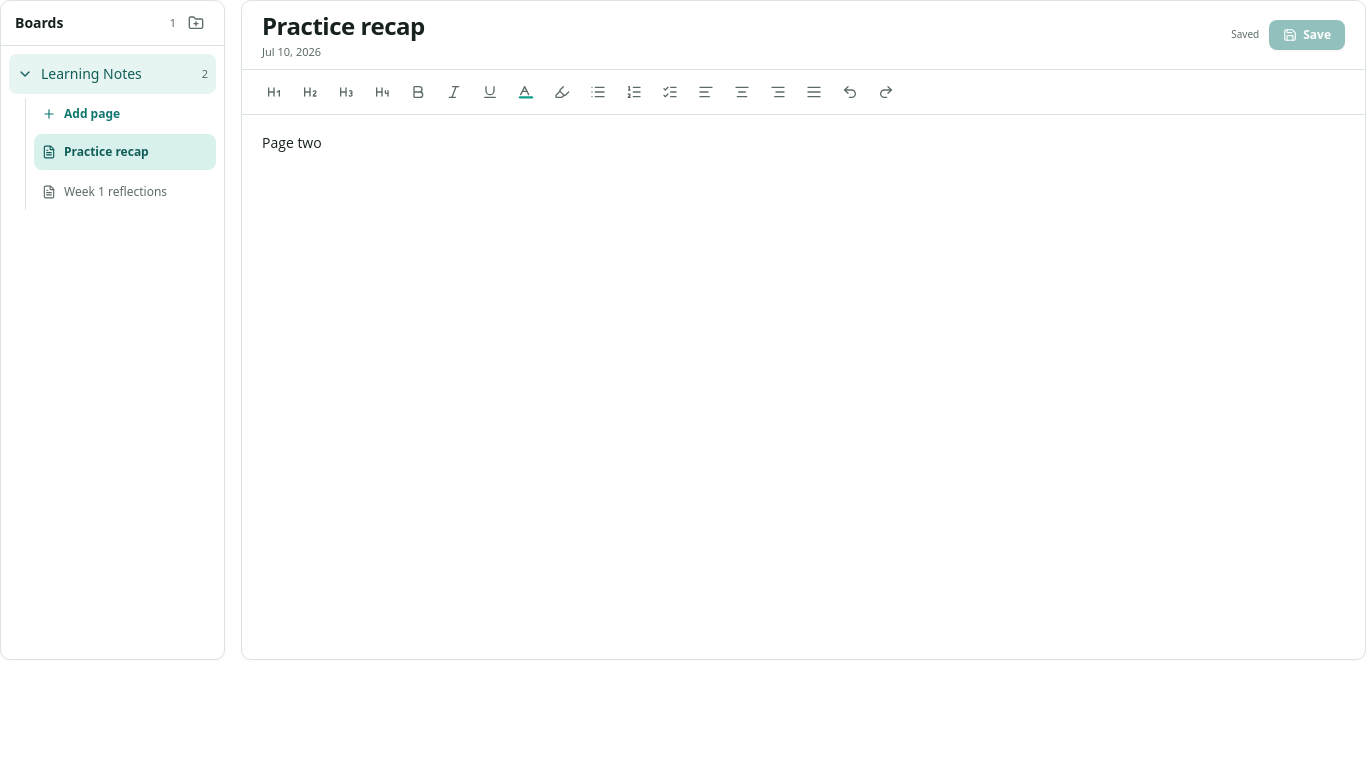
Test case: NotesPage › saves before switching pages and keeps the draft when save fails
Check: the field showing "Practice recap" is shown, box [262,9,1231,42]
Click the button "Week 1 reflections" at x=125, y=192, box [34,174,216,210]
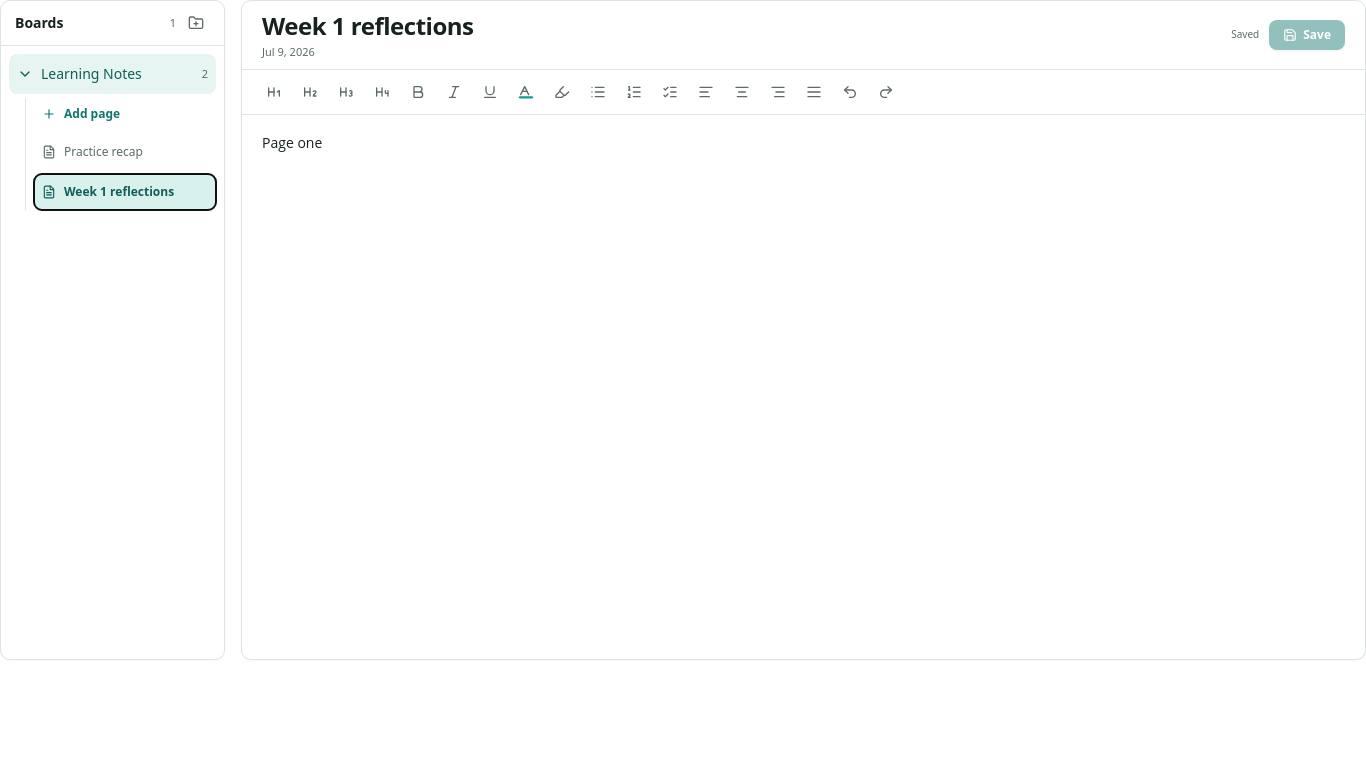
Clear the field named "Note title" at x=747, y=26, box [262,9,1231,42]
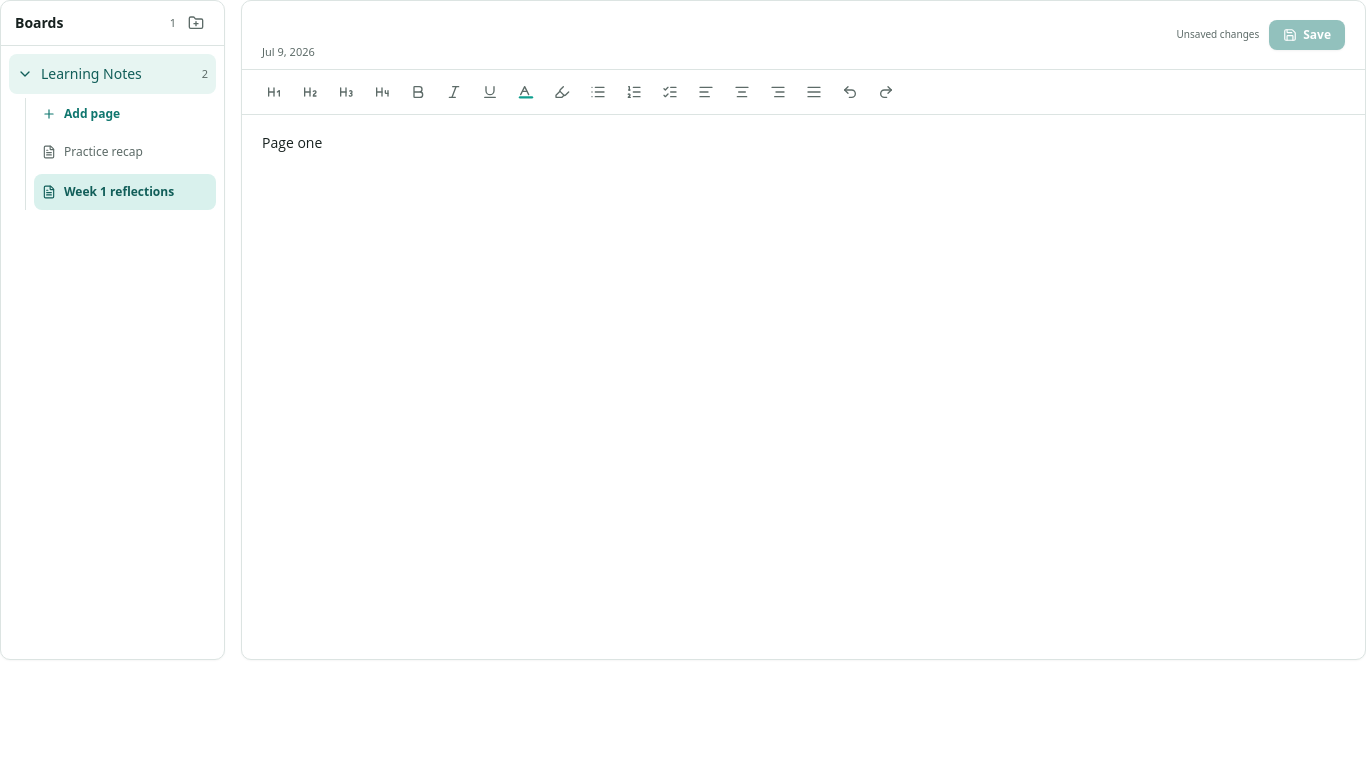
Type "Edited page one" into the field named "Note title" at x=719, y=26, box [262,9,1176,42]
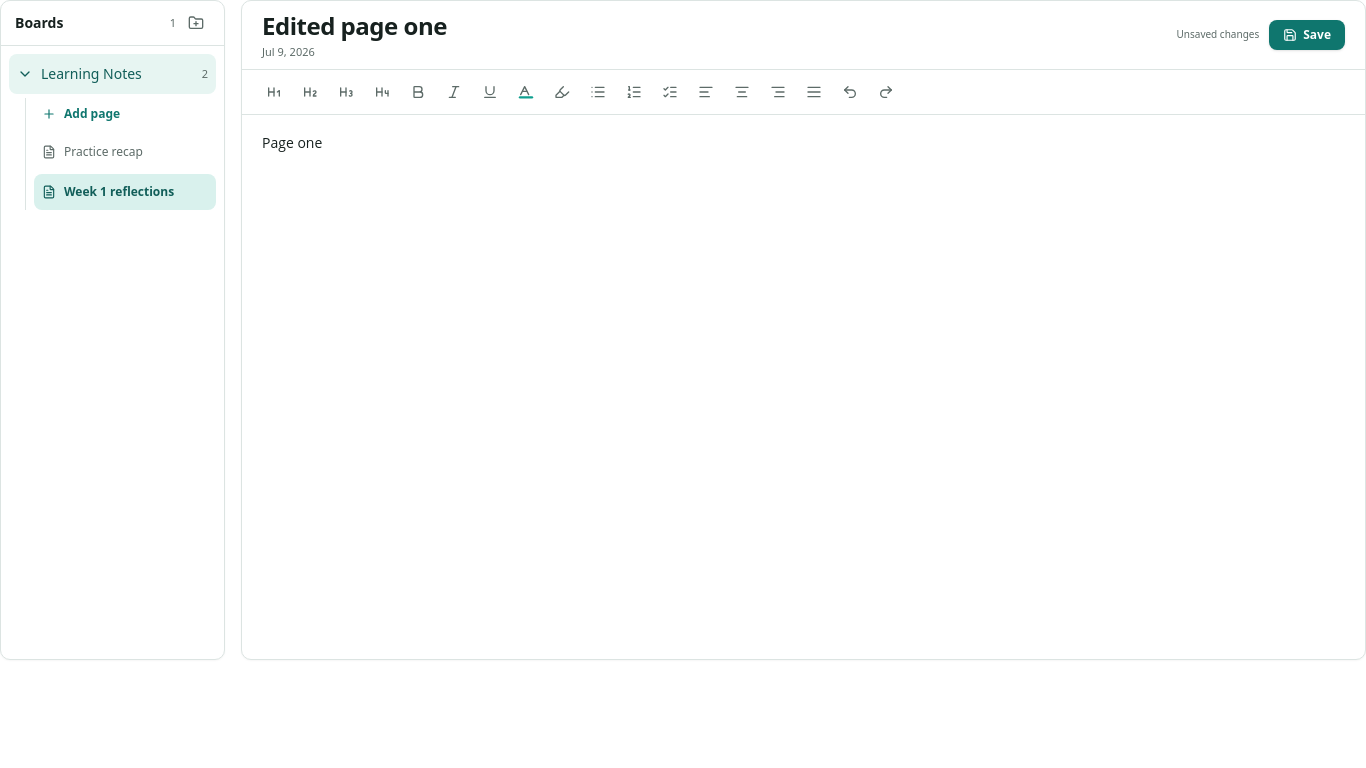
Click the button "Practice recap" at x=125, y=152, box [34,134,216,170]
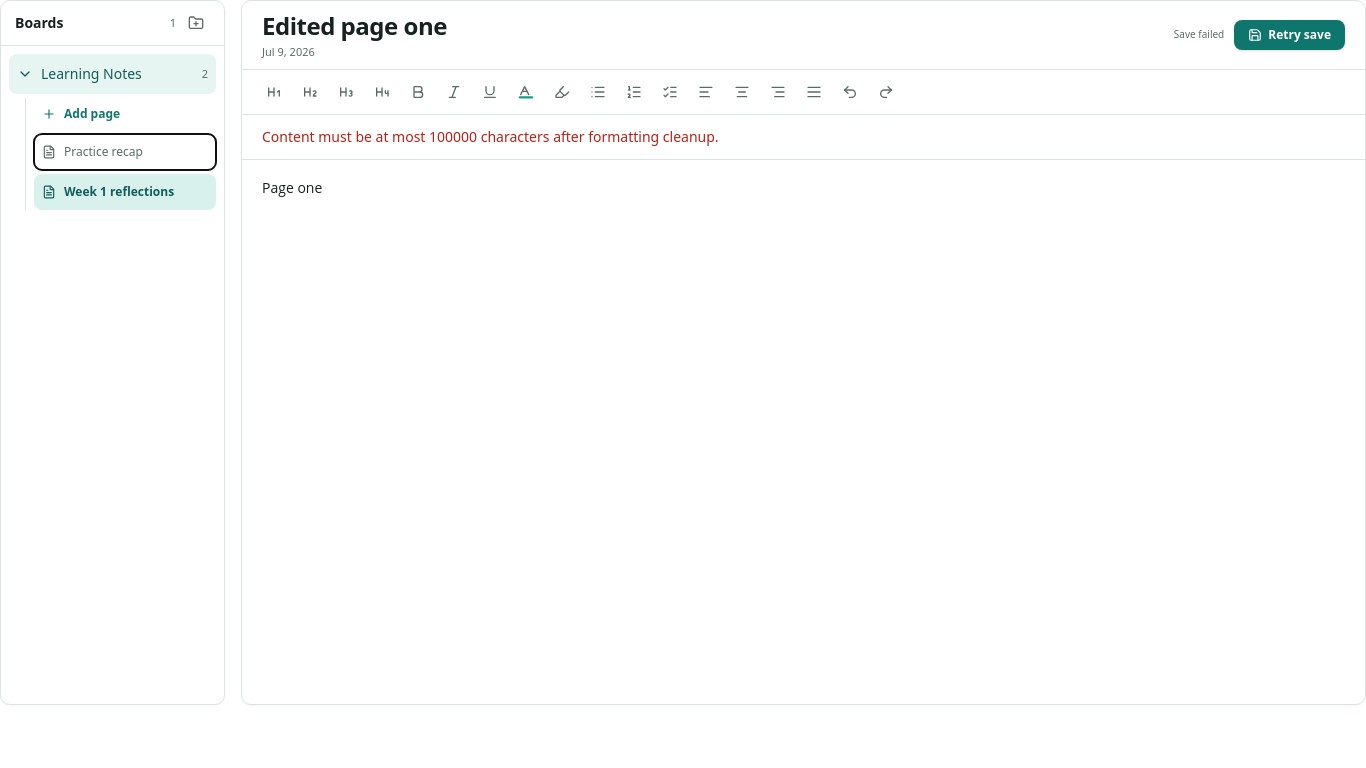
Check: the text with test id "note-save-status" reads "Save failed", box [1174,27,1224,41]
Check: the text "Content must be at most 100000 characters after formatting cleanup." is shown, box [242,114,1365,160]
Click the button "Practice recap" at x=125, y=152, box [34,134,216,170]
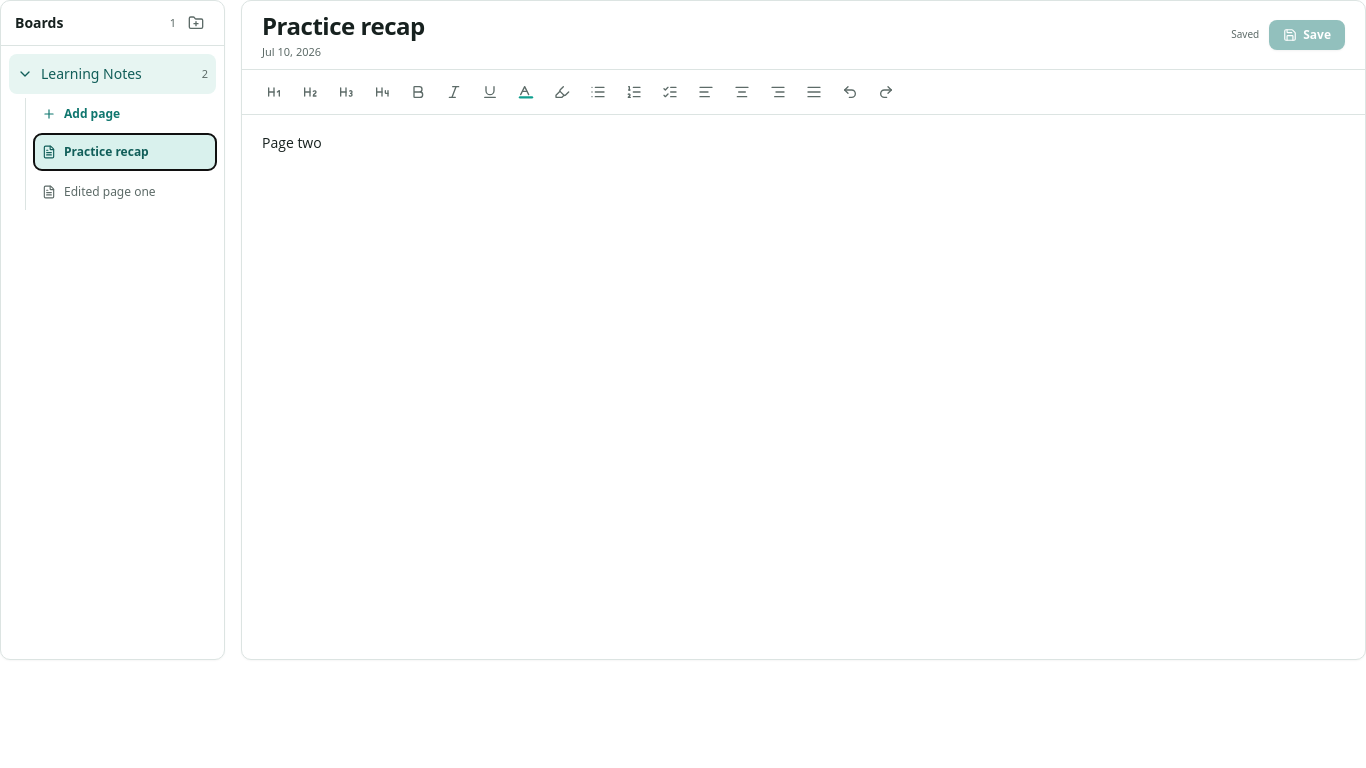
Check: the field showing "Practice recap" is shown, box [262,9,1231,42]
Check: the text "Content must be at most 100000 characters after formatting cleanup." is gone
